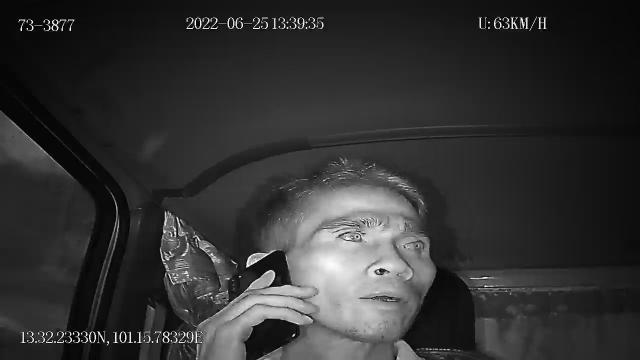PhoneUse: (226, 246, 302, 360)
SafeDriving: (328, 222, 376, 248), (391, 231, 434, 257)
